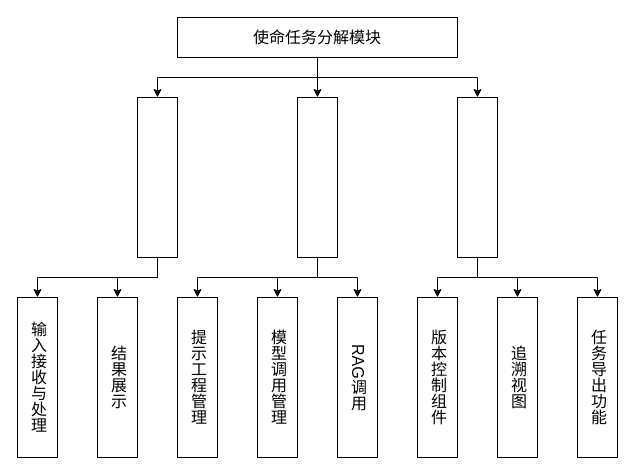
Image size: 635x475. Some labels were removed from this diagram. The shapes that lost their labels are listed below. From the top down, each one's centre as x and y in pixels, then its label:
At point (157, 177): "用户交互模块".
At point (317, 177): "智能推理模块".
At point (477, 177): "任务清单管理".
